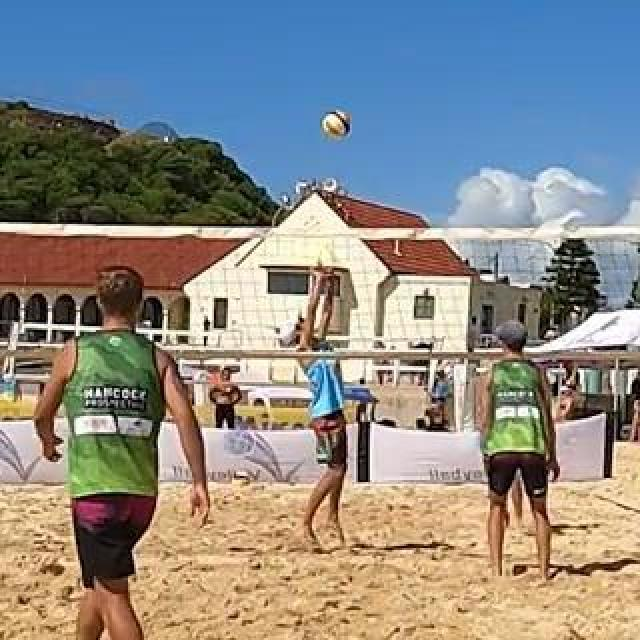volleyball: (324, 112, 350, 138), (232, 470, 250, 488)
